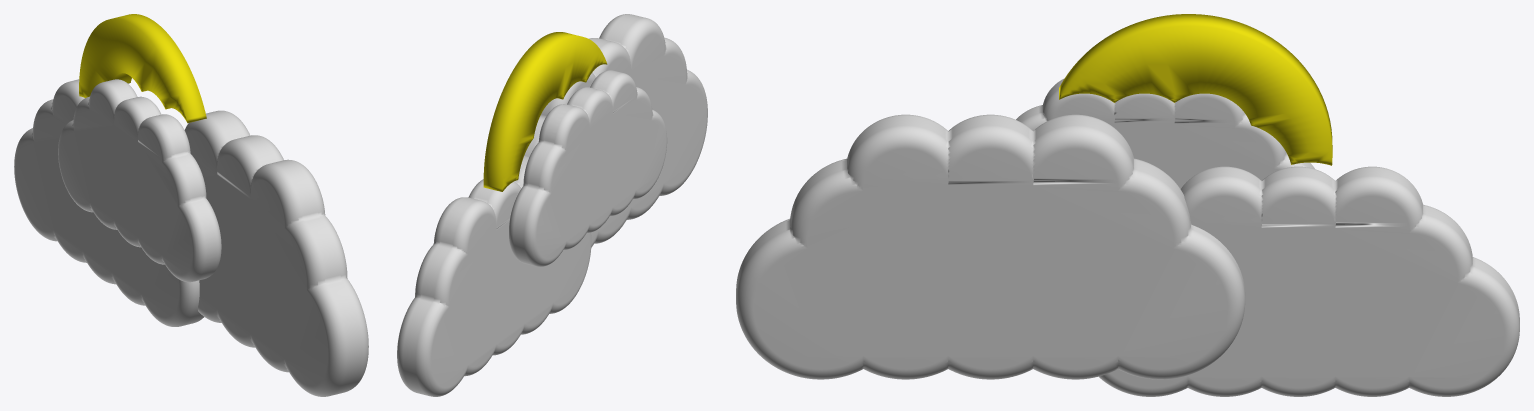
The model's file is sunny_cloud.glb.
3 renders of one model, left to right at view 1: azimuth 30°, elevation 25°; view 2: azimuth 150°, elevation 25°; view 3: azimuth 270°, elevation 25°, orthographic. The views are drawn at different scales.
Visible parts, largest first — view 1: Sun-cloudy v11, Sun-cloudy v11.001; view 2: Sun-cloudy v11, Sun-cloudy v11.001; view 3: Sun-cloudy v11, Sun-cloudy v11.001.
Part boxes in pixels (x1=…): Sun-cloudy v11: x1=14, y1=79, x2=368, y2=396; Sun-cloudy v11.001: x1=79, y1=14, x2=206, y2=123; Sun-cloudy v11: x1=397, y1=14, x2=707, y2=396; Sun-cloudy v11.001: x1=483, y1=32, x2=607, y2=191; Sun-cloudy v11: x1=736, y1=78, x2=1519, y2=396; Sun-cloudy v11.001: x1=1059, y1=14, x2=1332, y2=165.
Bounding box in the file's own units: 22.08 × 70.98 × 139.
